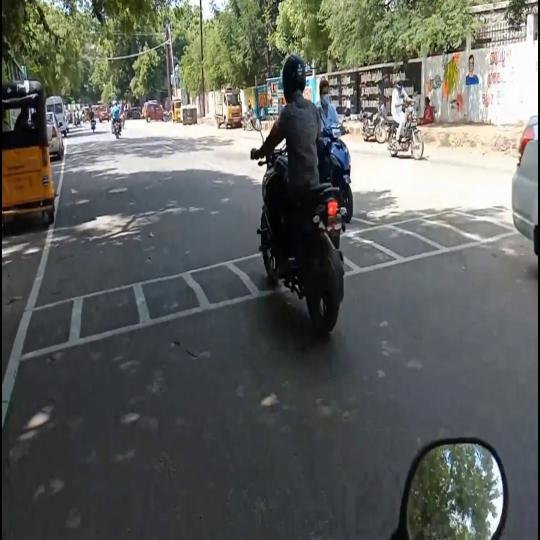Speed Bump: (2, 252, 263, 356), (353, 201, 512, 271)
